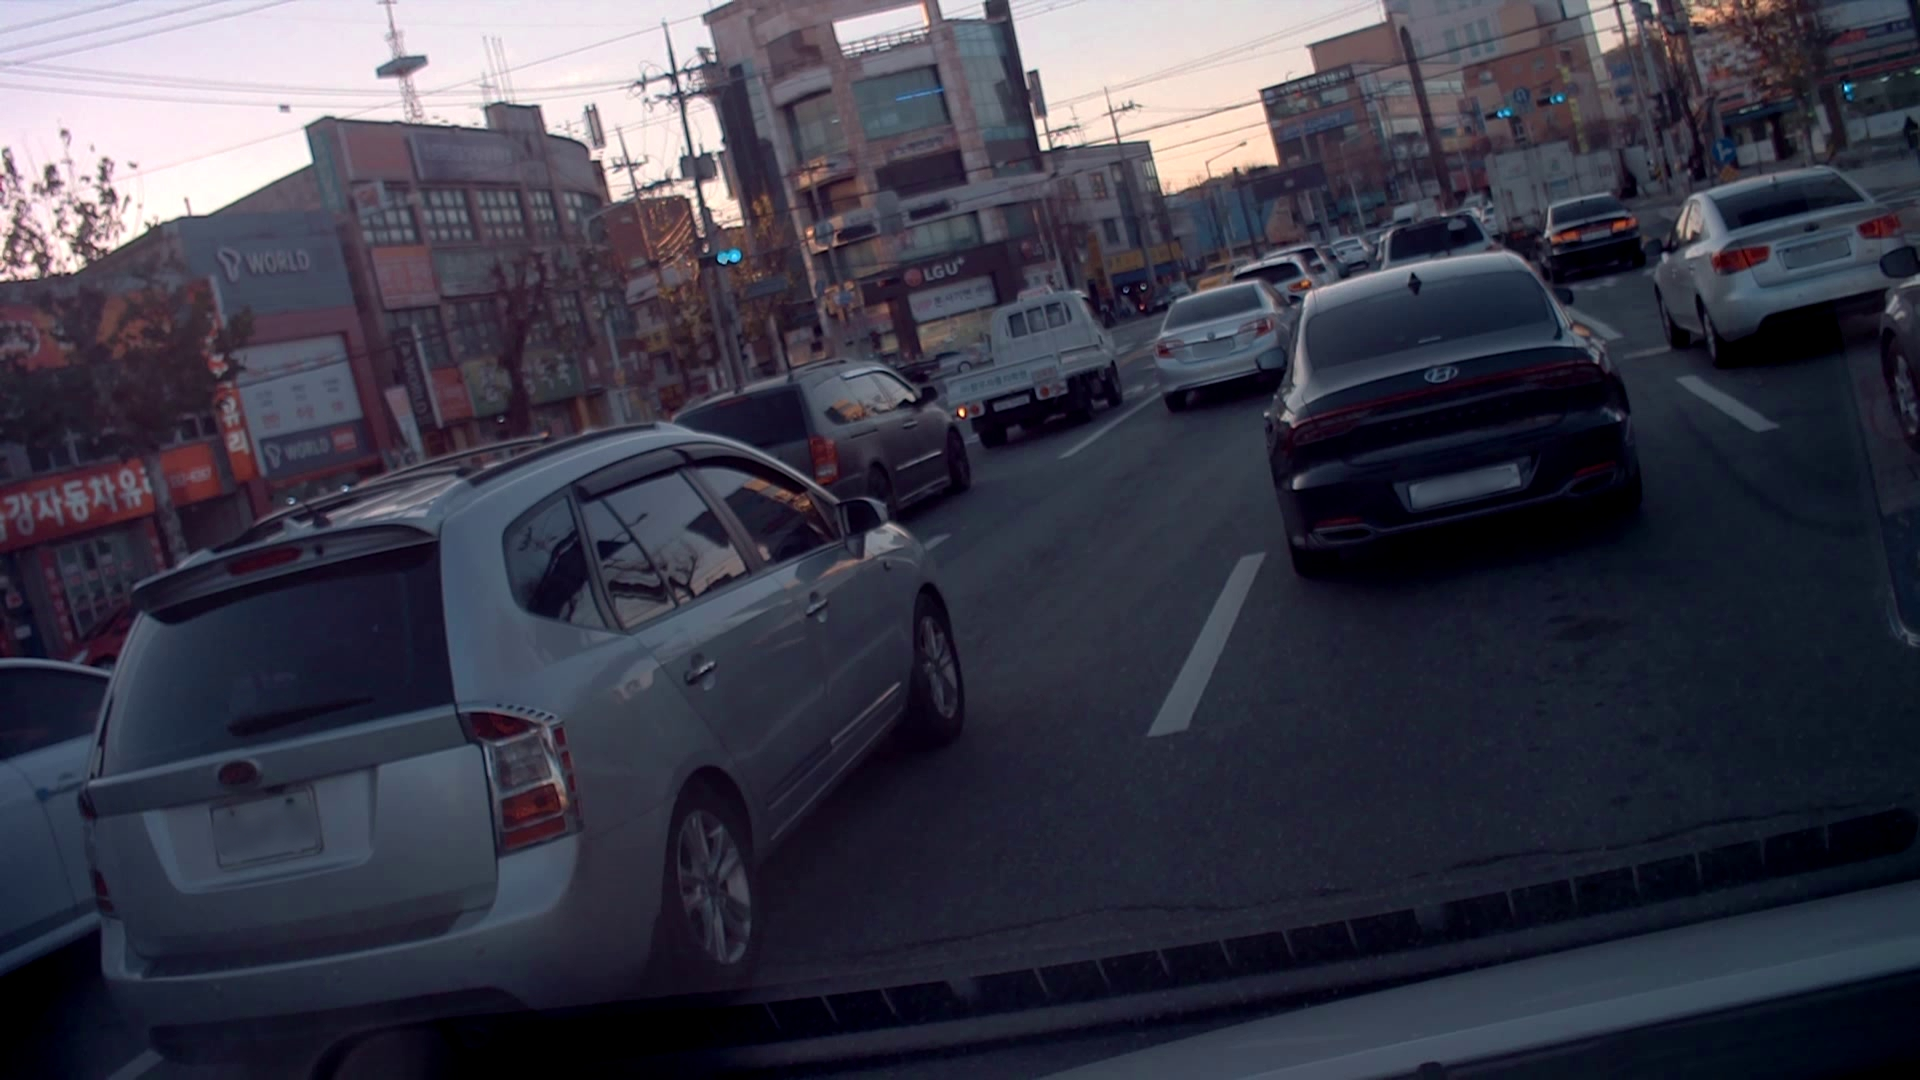trafficLight: (1486, 88, 1577, 124)
